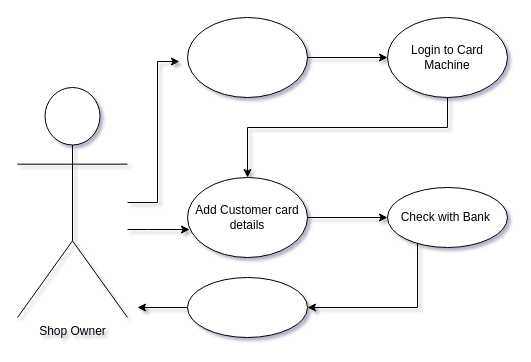
The diagram is 531 pixels wide and 362 high, and some of its shapes have lost their labels. The centre of each missing label's shape, as x and y in pixels:
"Create Shop Owner Card" goes at [247,57].
"Reply From Bank" goes at [247,307].
